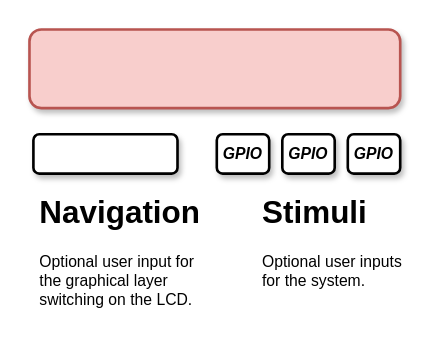
The diagram is 448 pixels wide and 339 high, and some of its shapes have lost their labels. The shapes that lost their labels are listed below. From the top down, each one's centre as x and y in pixels, then its label:
At pixel 215 70: "Interaction layer".
At pixel 106 155: "Button".
